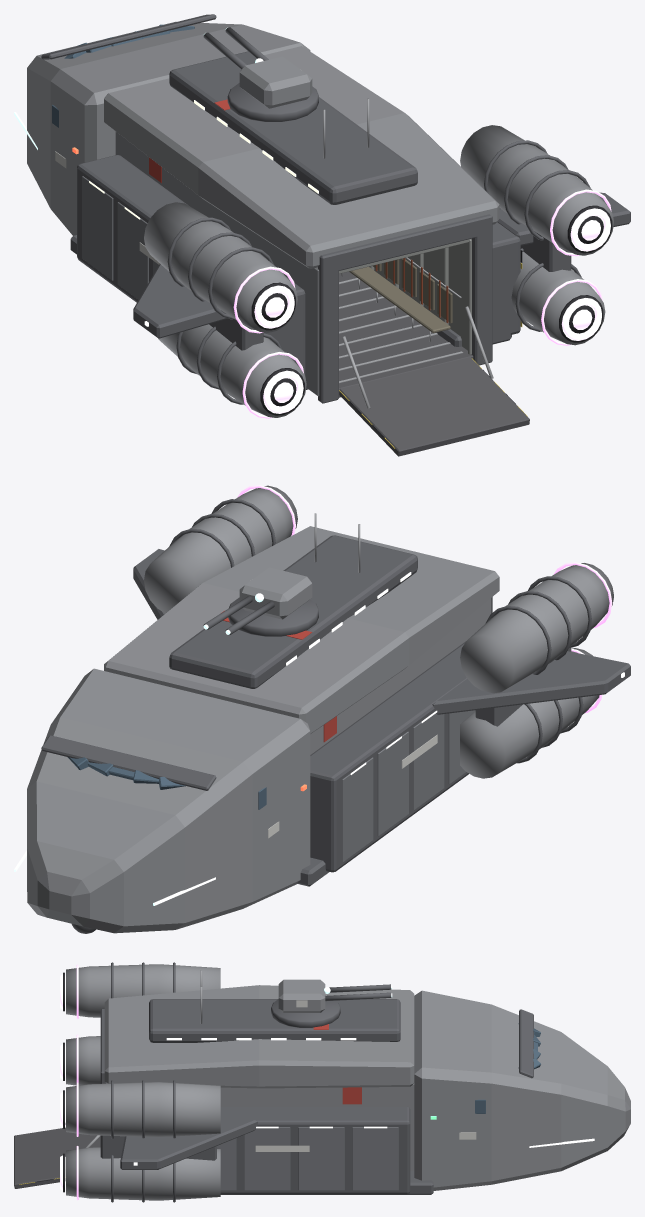
Rendered from pelikan.glb.
3 renders of one model, top to bottom at view 1: azimuth 30°, elevation 25°; view 2: azimuth 150°, elevation 25°; view 3: azimuth 270°, elevation 25°, orthographic. The views are drawn at different scales.
Visible parts, largest first — view 1: Pelikan, RampMesh, RampRams; view 2: Pelikan; view 3: Pelikan, RampMesh.
Boxes of the visible parts, box(x1,y1,x2,y2) form: Pelikan: box(14, 14, 630, 418); RampMesh: box(339, 357, 529, 456); RampRams: box(342, 306, 493, 408); Pelikan: box(14, 485, 630, 933); Pelikan: box(60, 962, 630, 1202); RampMesh: box(14, 1127, 100, 1188).
Size of the model in its own units: 10.88 by 5.35 by 15.94.
